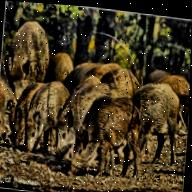boar: (72, 98, 150, 177), (48, 68, 113, 160), (20, 76, 72, 160), (0, 22, 42, 100), (2, 75, 36, 157)
